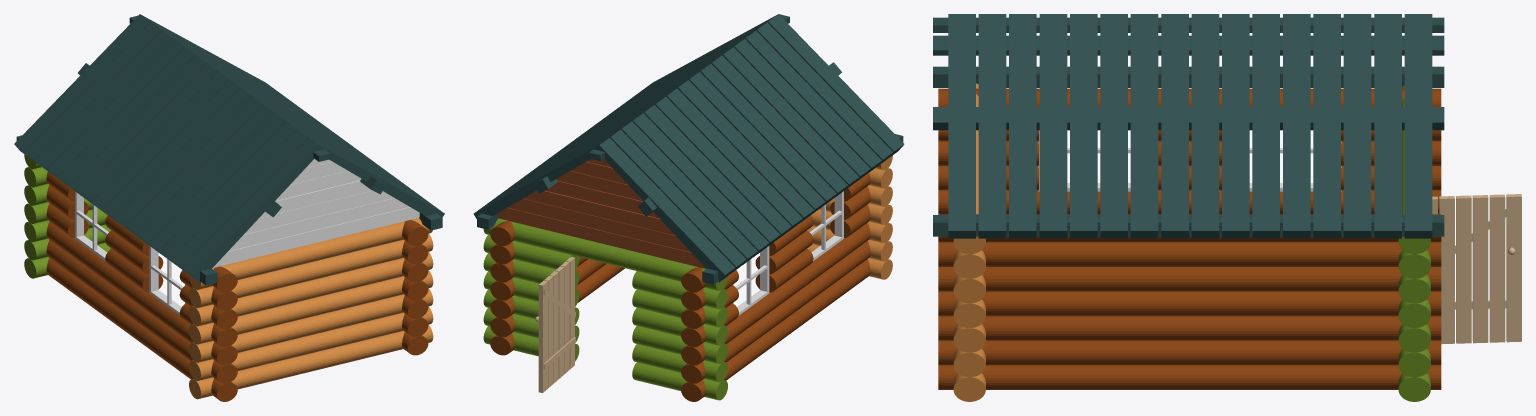
File: woodhouse.fbx
3 views of the same model, side by side, from view 1: azimuth 30°, elevation 25°; view 2: azimuth 150°, elevation 25°; view 3: azimuth 270°, elevation 25° (orthographic). The views are drawn at different scales.
Parts seen in each view (by area): view 1: roof, back wall, walls, back, front wall, windows; view 2: roof, walls, front wall, front, door, back wall, windows; view 3: roof, walls, door, back wall, front wall.
Part boxes in pixels (x1,y1,x2,y2): roof: (14, 14, 444, 285); back wall: (189, 218, 433, 399); walls: (46, 171, 428, 401); back: (213, 159, 419, 267); front wall: (24, 154, 110, 278); windows: (74, 191, 185, 315); roof: (473, 14, 904, 284); walls: (490, 173, 870, 401); front wall: (483, 218, 727, 400); front: (498, 159, 706, 268); door: (535, 257, 575, 392); back wall: (808, 155, 892, 279); windows: (733, 191, 843, 315); roof: (933, 14, 1444, 238); walls: (938, 88, 1441, 389); door: (1432, 194, 1521, 344); back wall: (953, 83, 985, 401); front wall: (1398, 85, 1430, 401).
Size of the model in its own units: 321 by 281 by 482.
